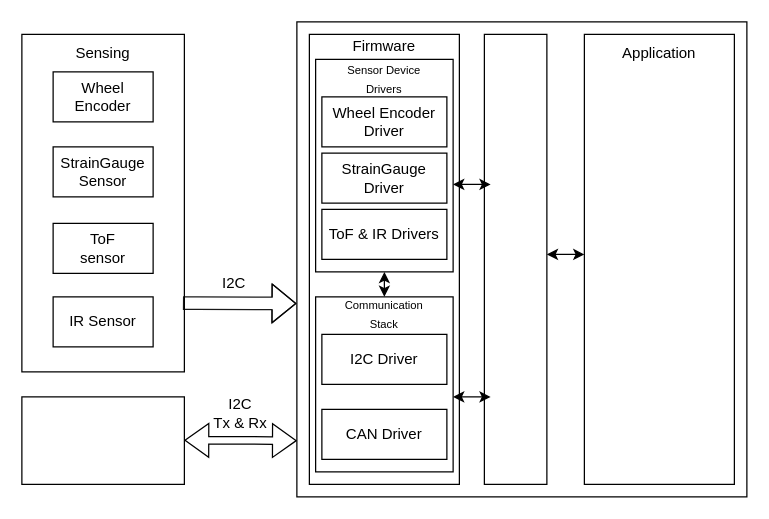
The diagram is 769 pixels wide and 519 high, and some of its shapes have lost their labels. Each missing label, with the centre of its shape:
"AutoPilot (FCU)" goes at (102,440).
"Hardware Abstraction Layer" goes at (515,258).
